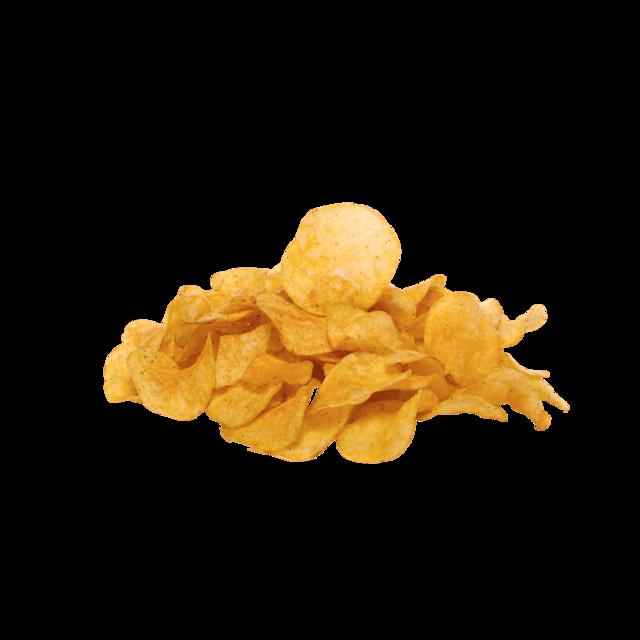food_waste: (98, 201, 563, 468)
